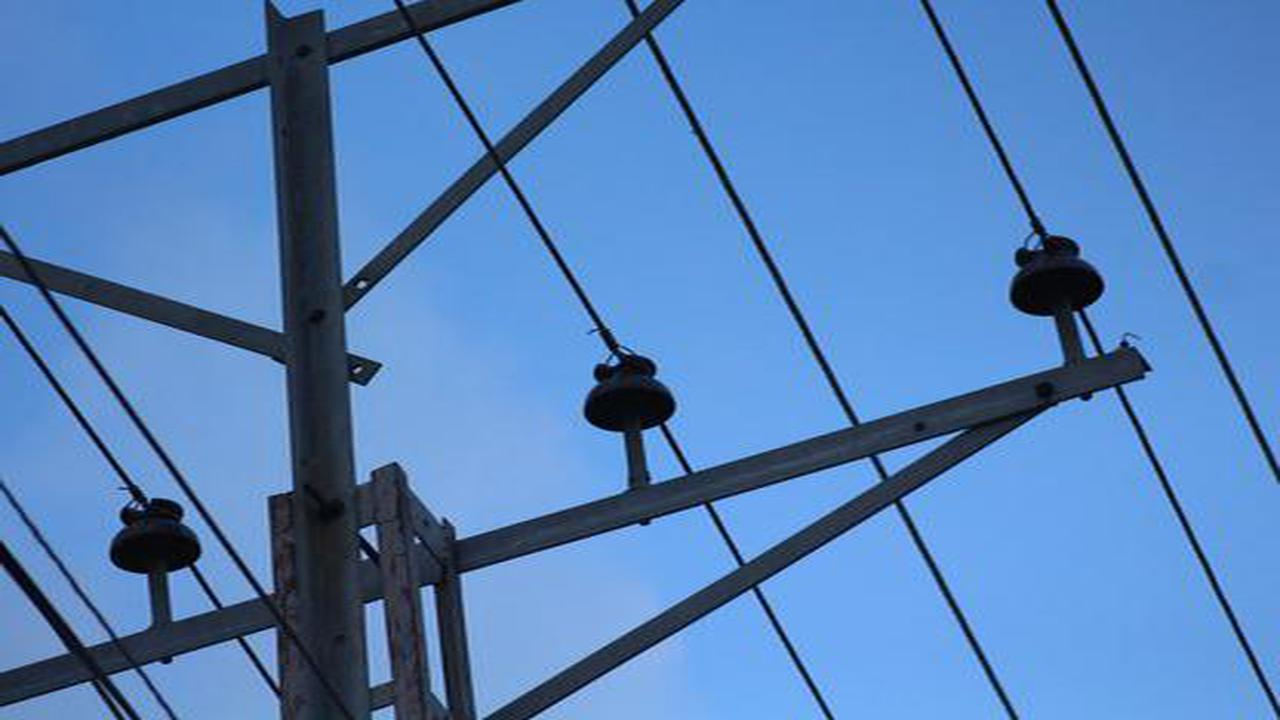insulator_pin: (989, 221, 1115, 327), (574, 341, 686, 448), (104, 492, 207, 579)
